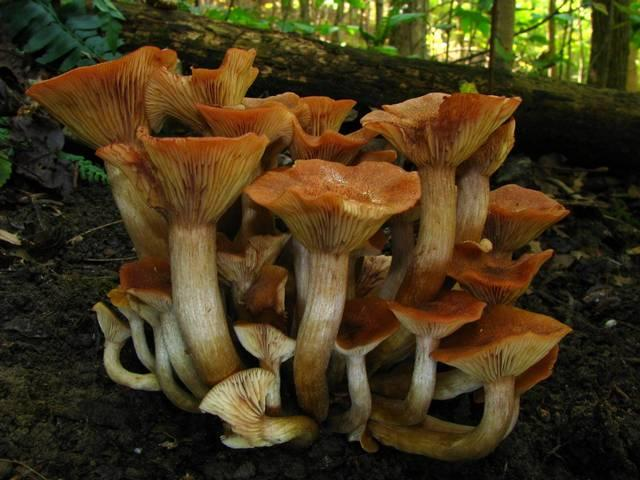edible_mushroom: (25, 44, 573, 461)
